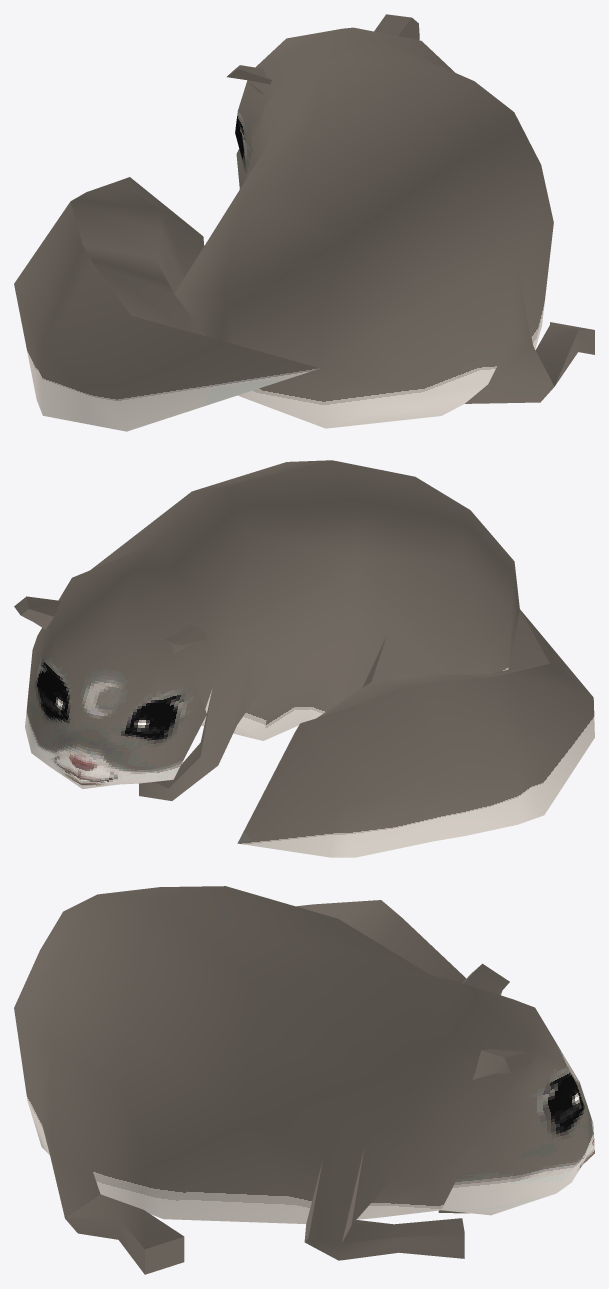
File: ps2_save-icons_samuraichamploosidetracked.glb
3 renders of one model, top to bottom at view 1: azimuth 30°, elevation 25°; view 2: azimuth 150°, elevation 25°; view 3: azimuth 270°, elevation 25°, orthographic. The views are drawn at different scales.
Parts seen in each view (by area): view 1: momo.ico; view 2: momo.ico; view 3: momo.ico.
Part boxes in pixels (box(x1,y1,x2,y2)): momo.ico: box(14, 14, 594, 431); momo.ico: box(14, 460, 594, 857); momo.ico: box(14, 886, 594, 1274).
Bounding box in the file's own units: 3.08 × 1.72 × 3.07.
Materials: 1 (1 with a texture image).
